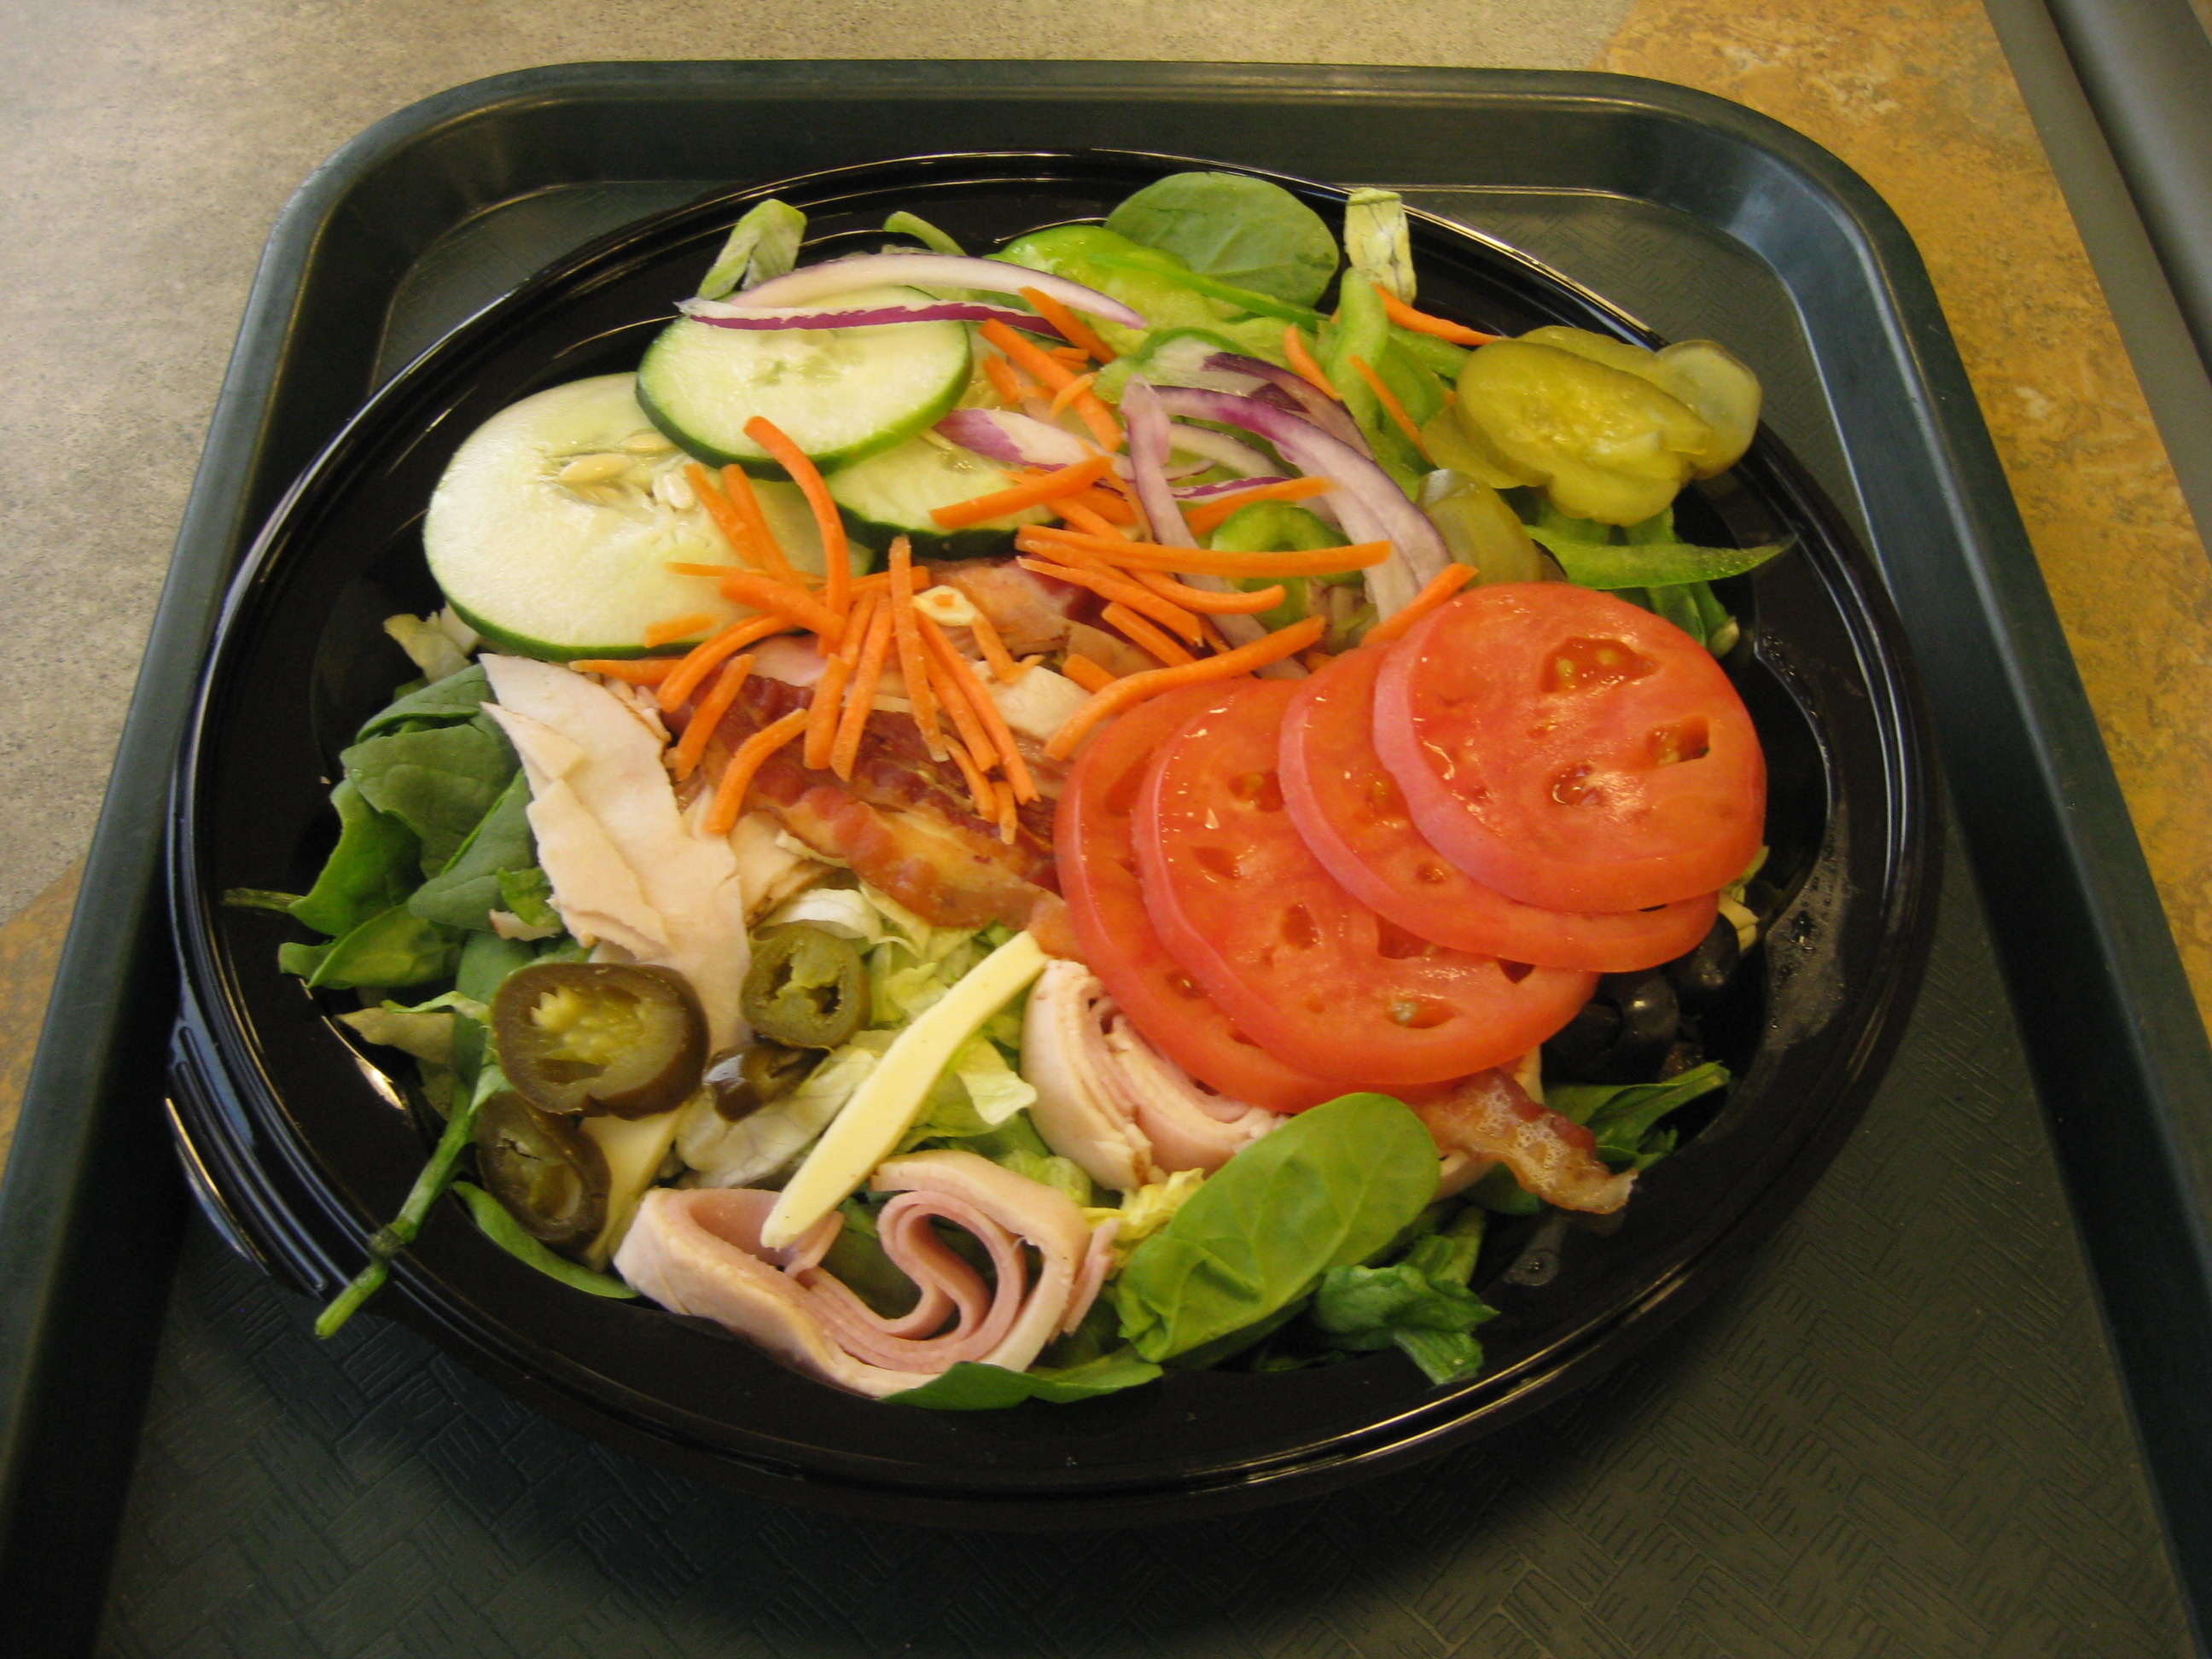salad: (302, 146, 1855, 1423)
